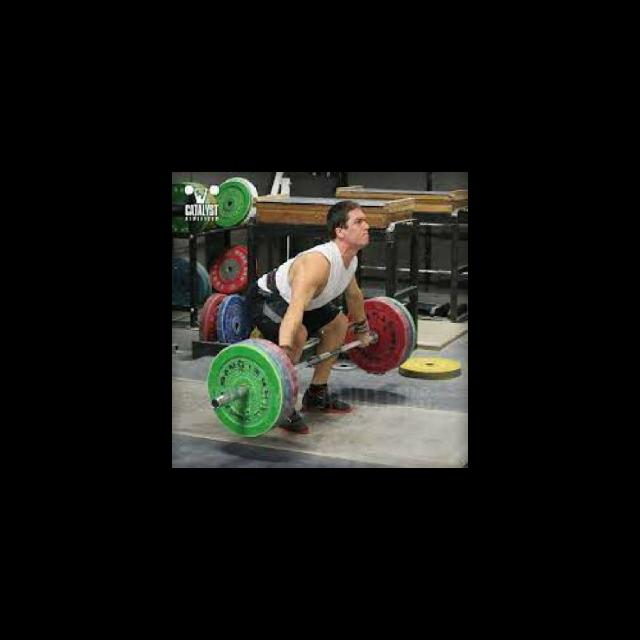barbell: (205, 340, 284, 440)
